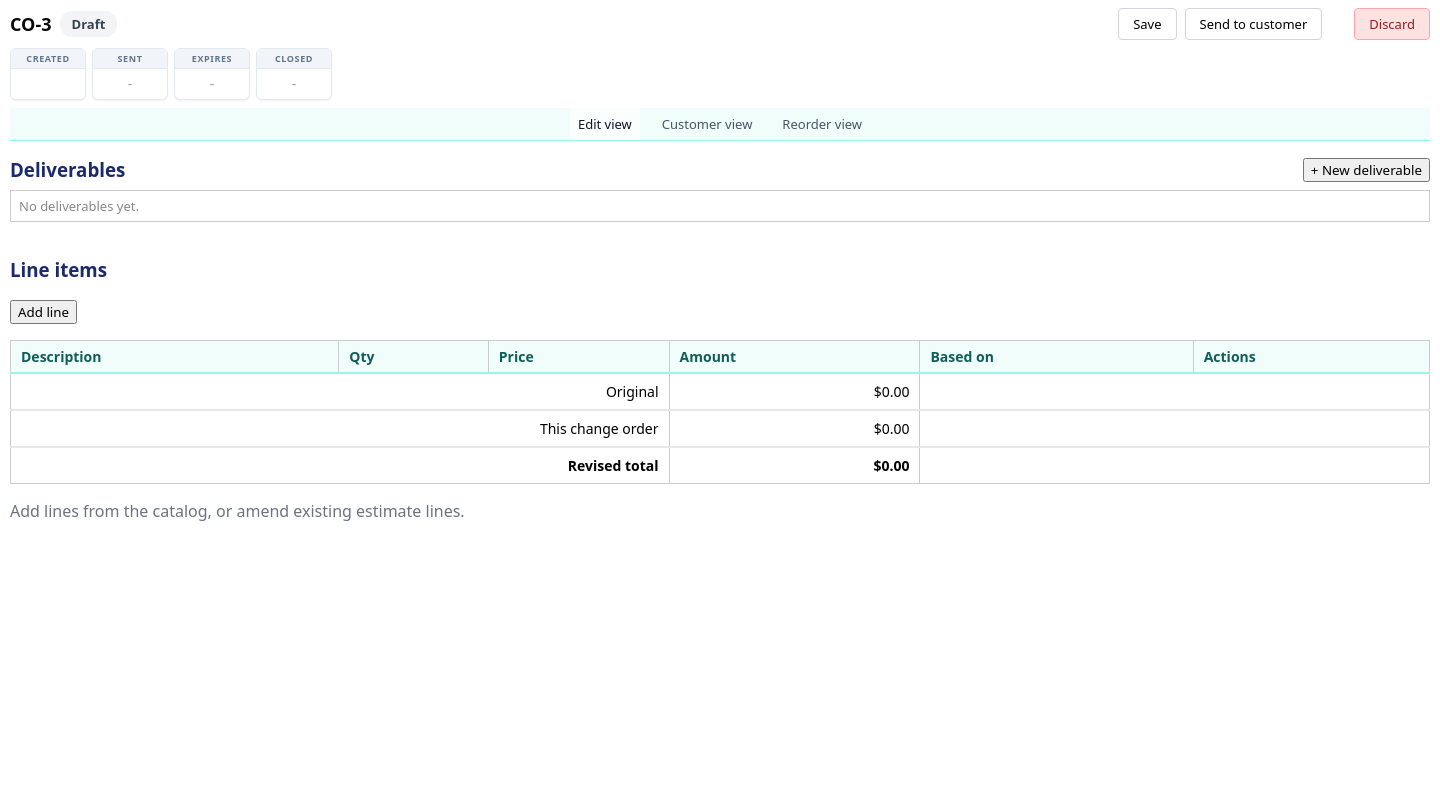
it: ChangeOrderPanel add-line flow › "Add line" opens the unified picker (service/inventory/freeform), not a legacy action-select modal
What coordinates should you click on to do the following:
click the button "Add line"
I would click on:
 (44, 312)
Its box is top-left (10, 300), bottom-right (77, 324).
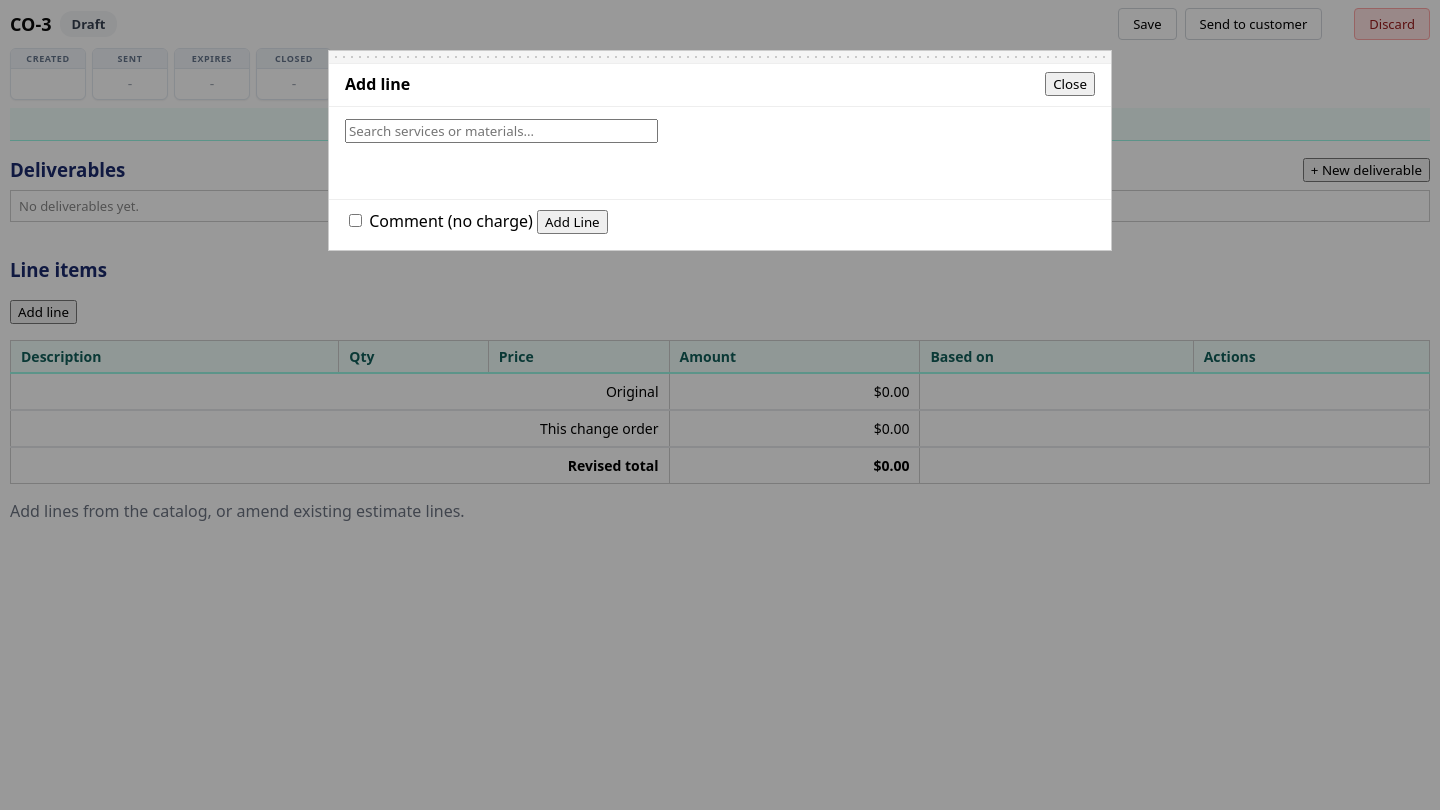
Result: the button "Add Line" is shown at top-left (537, 210), bottom-right (608, 234)
